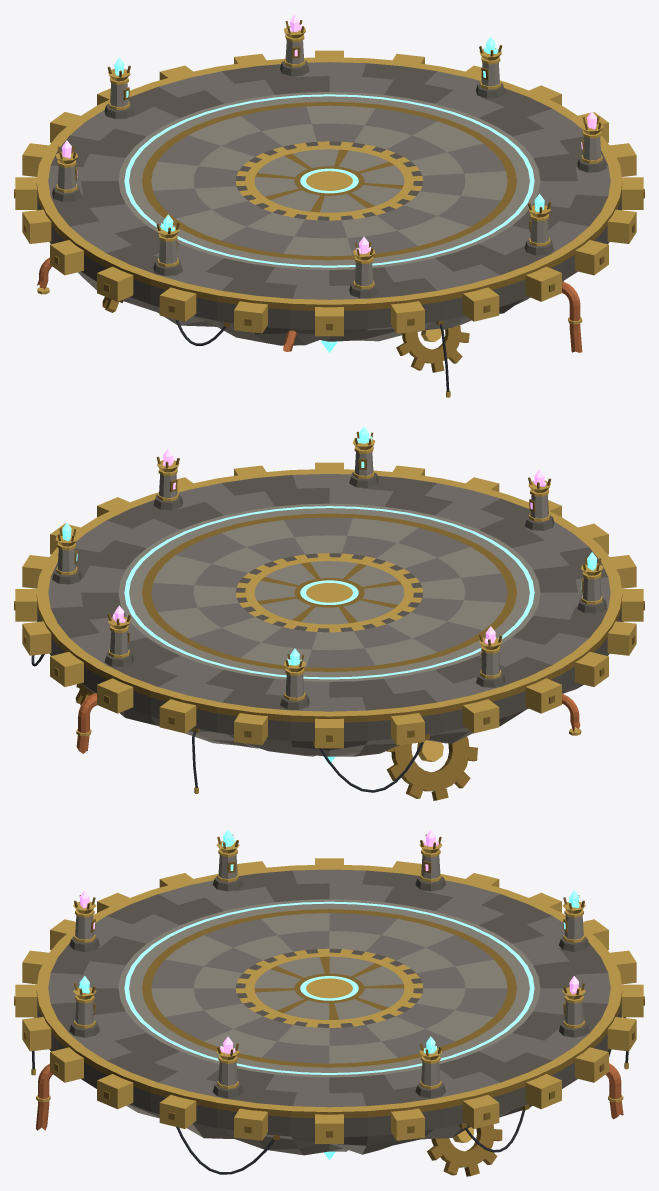
Rendered from arena.glb.
3 renders of one model, top to bottom at view 1: azimuth 30°, elevation 25°; view 2: azimuth 150°, elevation 25°; view 3: azimuth 270°, elevation 25°, orthographic.
Visible parts, largest first — view 1: arena_platform, arena_rim_teeth, arena_pillars, arena_underside, arena_hanging; view 2: arena_platform, arena_rim_teeth, arena_pillars, arena_underside, arena_hanging; view 3: arena_platform, arena_rim_teeth, arena_pillars, arena_hanging, arena_underside.
Boxes of the visible parts, left/top/right/bottom form: arena_platform: left=36, top=57, right=622, bottom=345; arena_rim_teeth: left=14, top=50, right=644, bottom=336; arena_pillars: left=52, top=15, right=606, bottom=298; arena_underside: left=102, top=296, right=469, bottom=372; arena_hanging: left=37, top=257, right=582, bottom=397; arena_platform: left=36, top=469, right=622, bottom=756; arena_rim_teeth: left=14, top=462, right=644, bottom=748; arena_pillars: left=52, top=426, right=606, bottom=709; arena_underside: left=75, top=683, right=477, bottom=800; arena_hanging: left=31, top=621, right=623, bottom=793; arena_platform: left=36, top=864, right=622, bottom=1155; arena_rim_teeth: left=14, top=858, right=644, bottom=1143; arena_pillars: left=69, top=829, right=589, bottom=1098; arena_hanging: left=31, top=1017, right=628, bottom=1174; arena_underside: left=323, top=1124, right=502, bottom=1176.
Size of the model in its own units: 26.92 by 10.72 by 26.92.
